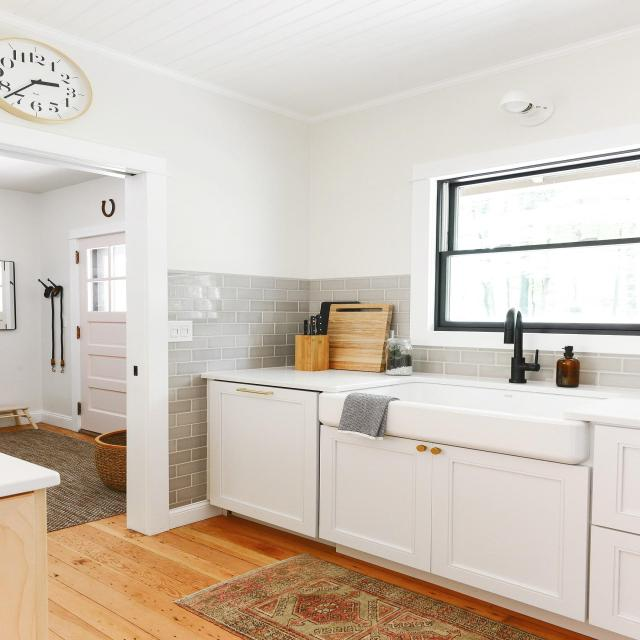dishwasher: (204, 382, 320, 541)
